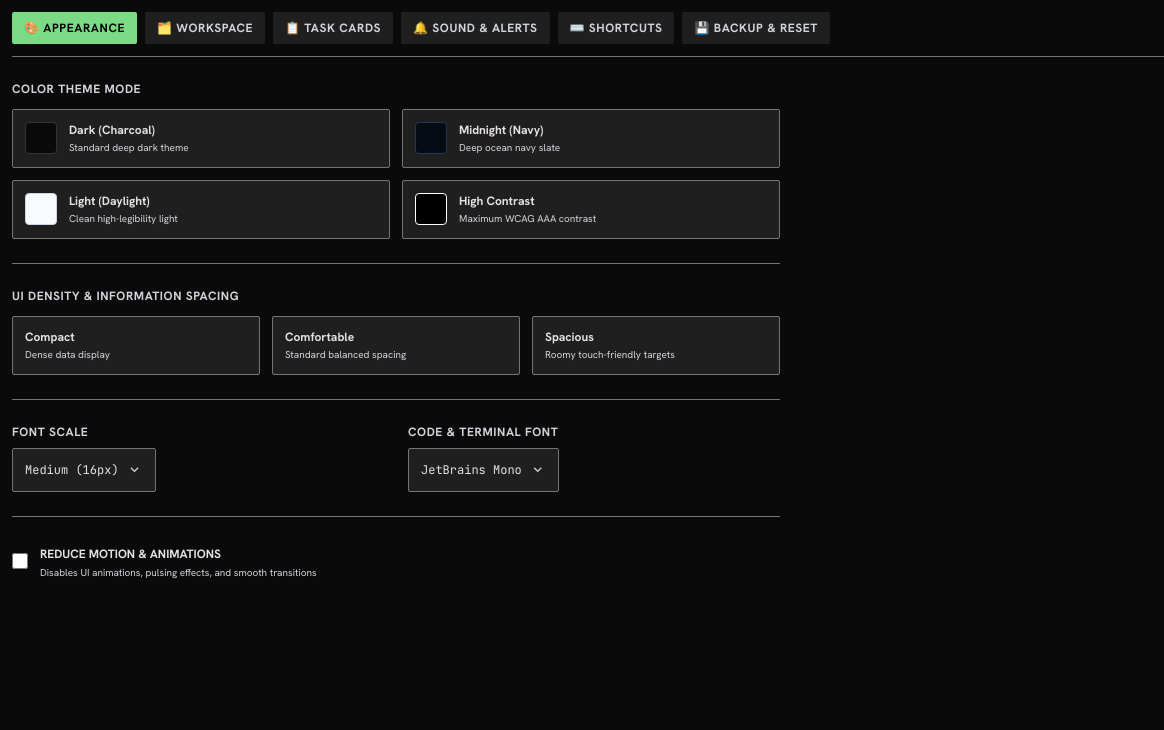
card order setting reflects the stored oldest-first value
Click the button "📋 Task Cards" at (333, 28), box x1=273 y1=12 x2=393 y2=44
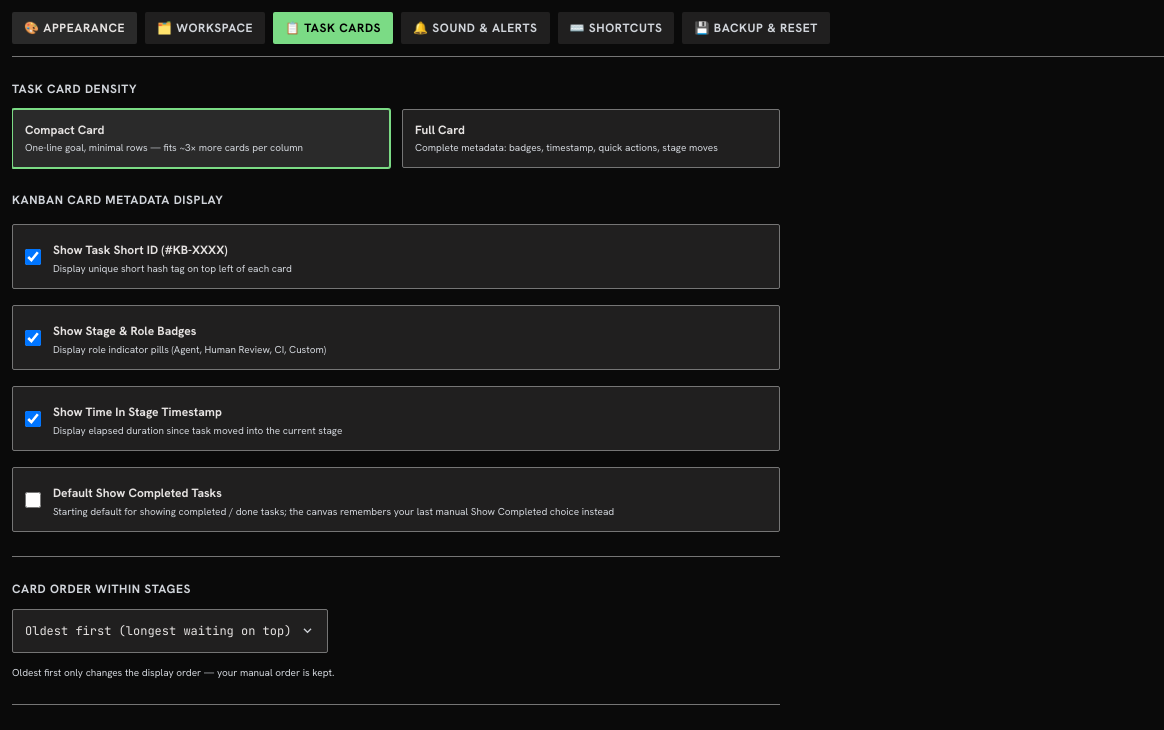
Check: the dropdown named "Card Order Within Stages" shows "Oldest first", box x1=12 y1=609 x2=328 y2=653
